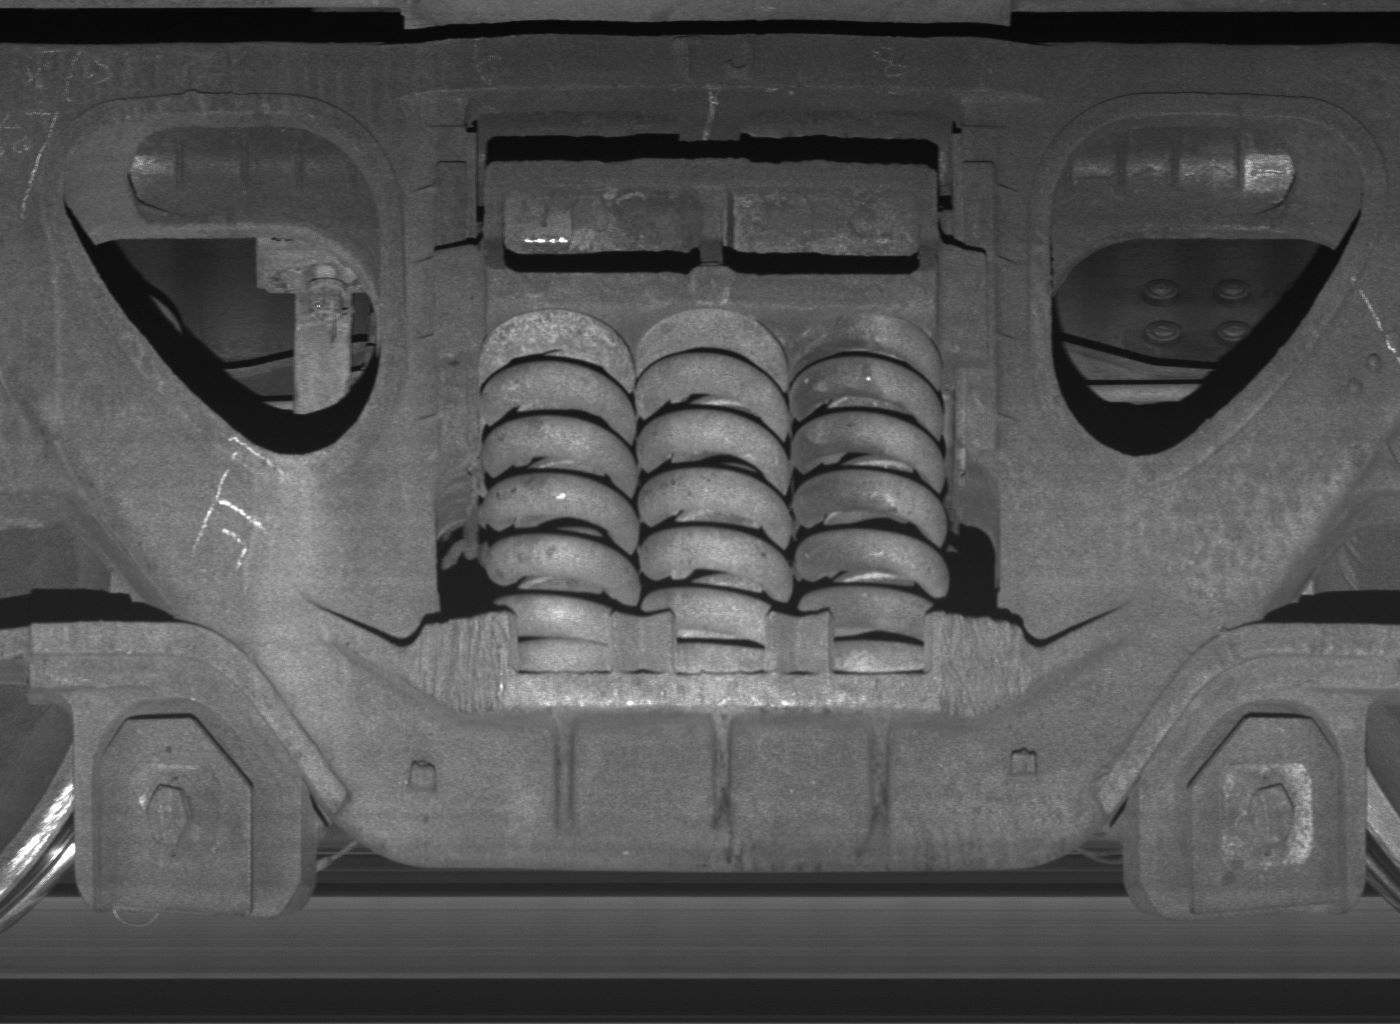normal: (1135, 690, 1368, 917), (74, 690, 307, 917)
